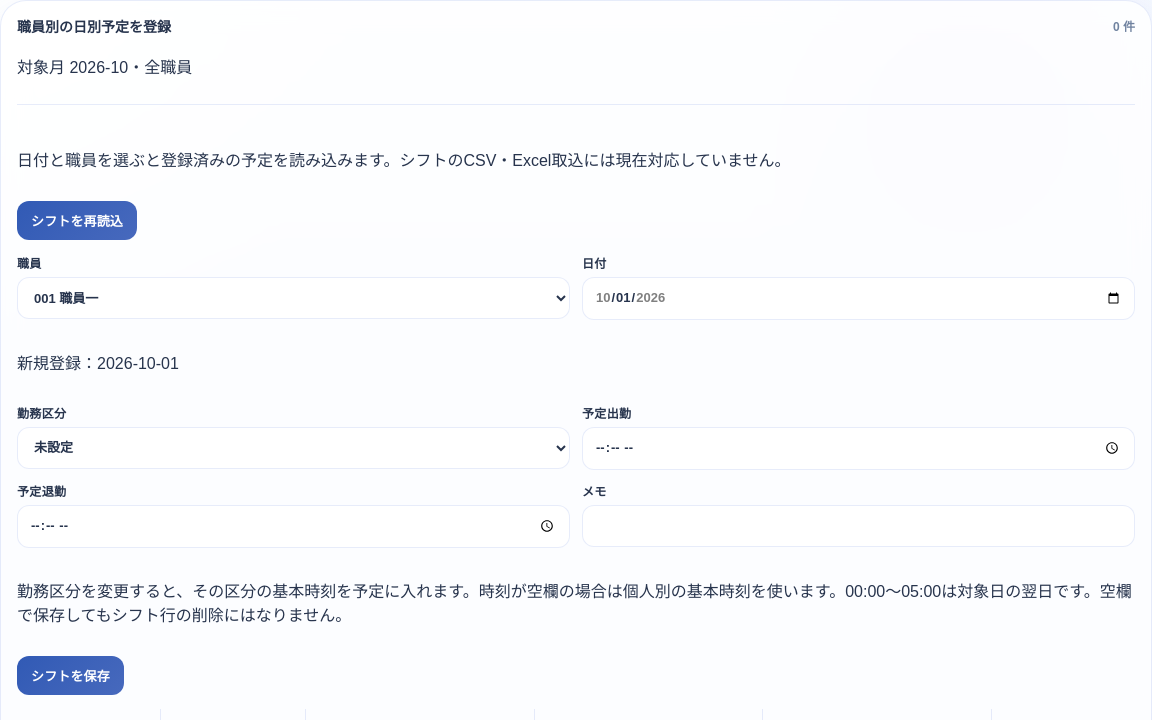
Scenario: attendance shift settings › links server validation to the time field and keeps the entered value
Check: the button "シフトを保存" is enabled, box [17,656,124,694]
Type "09:00" into the time field labelled "予定出勤" at (858, 448), box [582,427,1135,470]
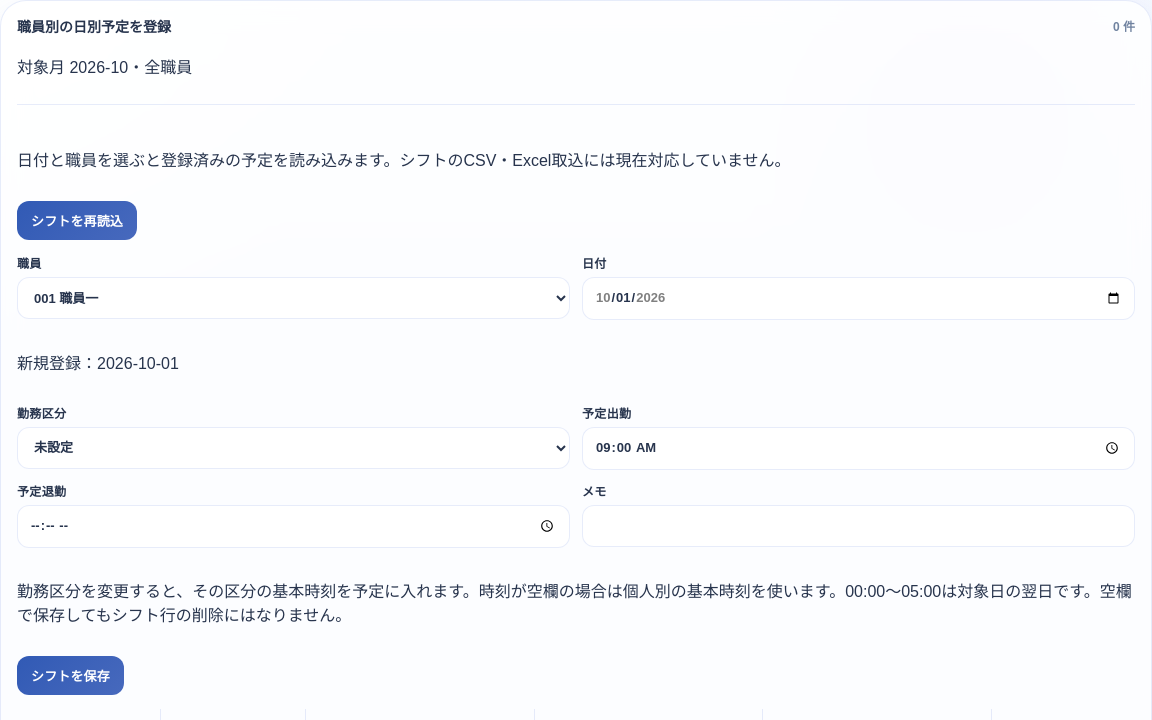
Type "08:00" into the time field labelled "予定退勤" at (294, 526), box [17,505,570,548]
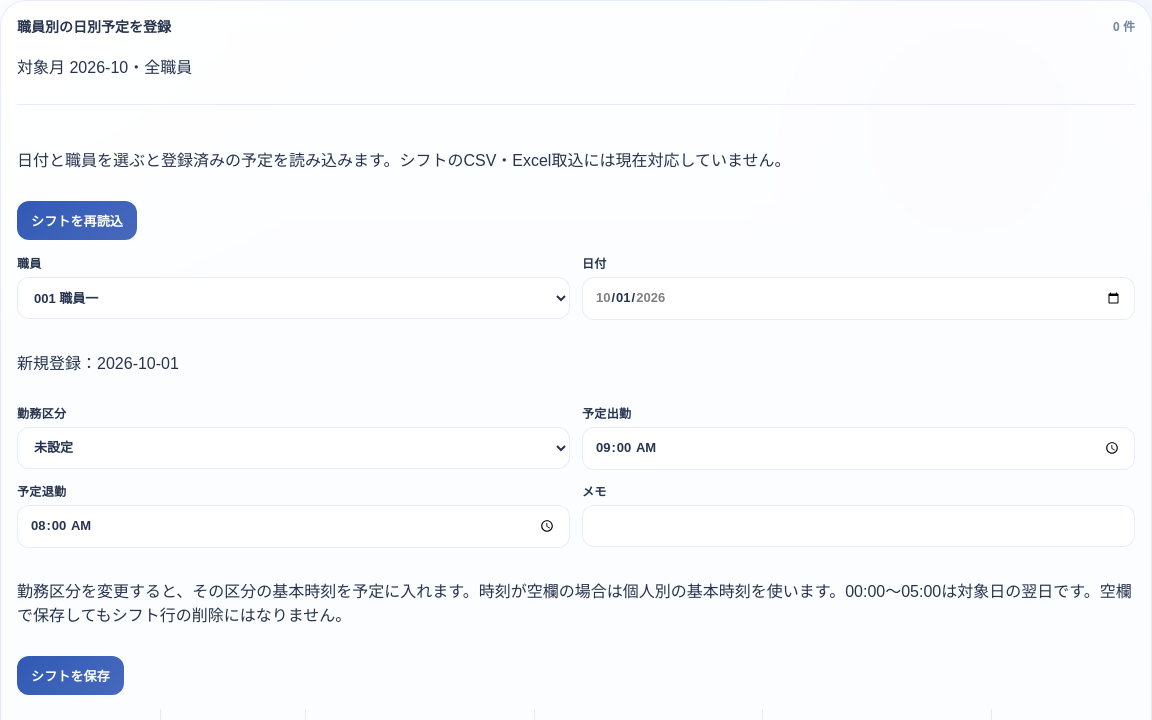
Click the button "シフトを保存" at (70, 675), box [17,656,124,694]
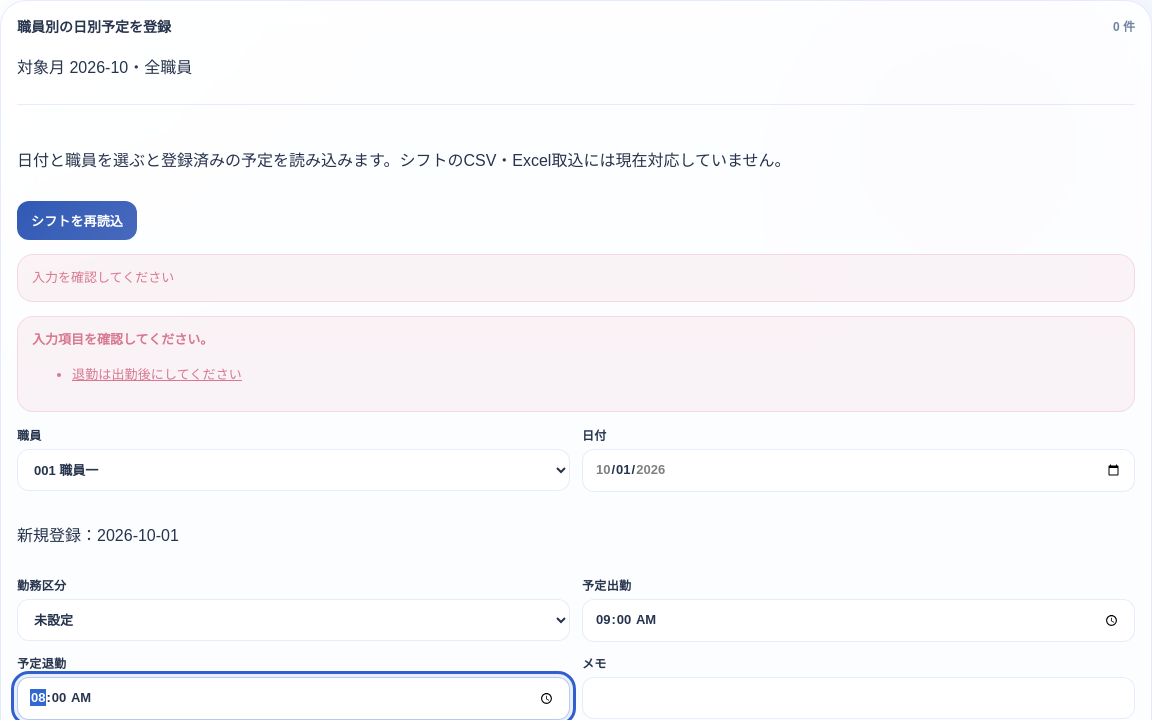
Check: the button "退勤は出勤後にしてください" is shown, box [72,364,242,386]
